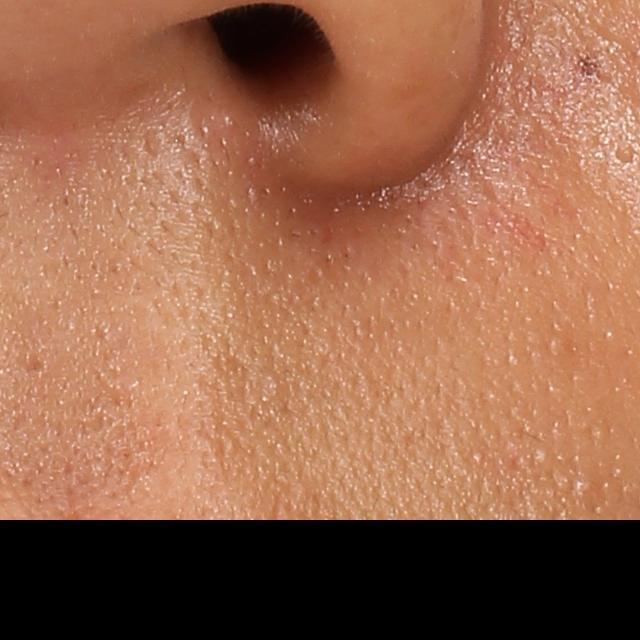atrophic_scar: (22, 359, 44, 376)
nevus: (576, 55, 600, 80)
